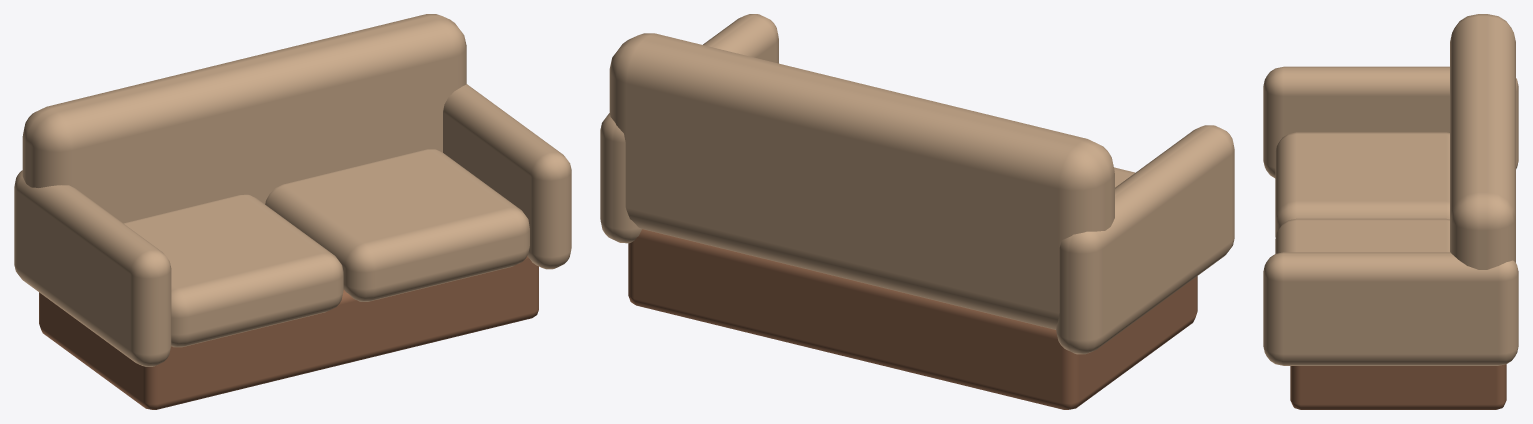
Rendered from kit_sofa_2_v1.glb.
The picture shows the model from 3 angles, left to right: view 1: azimuth 30°, elevation 25°; view 2: azimuth 150°, elevation 25°; view 3: azimuth 270°, elevation 25°; orthographic projection. The views are drawn at different scales.
Visible parts, largest first — view 1: body; view 2: body; view 3: body.
Part boxes in pixels (x1,y1,x2,y2): body: (14, 14, 571, 409); body: (600, 14, 1234, 409); body: (1263, 14, 1518, 409).
Size of the model in its own units: 1.6 by 0.8 by 0.85.
